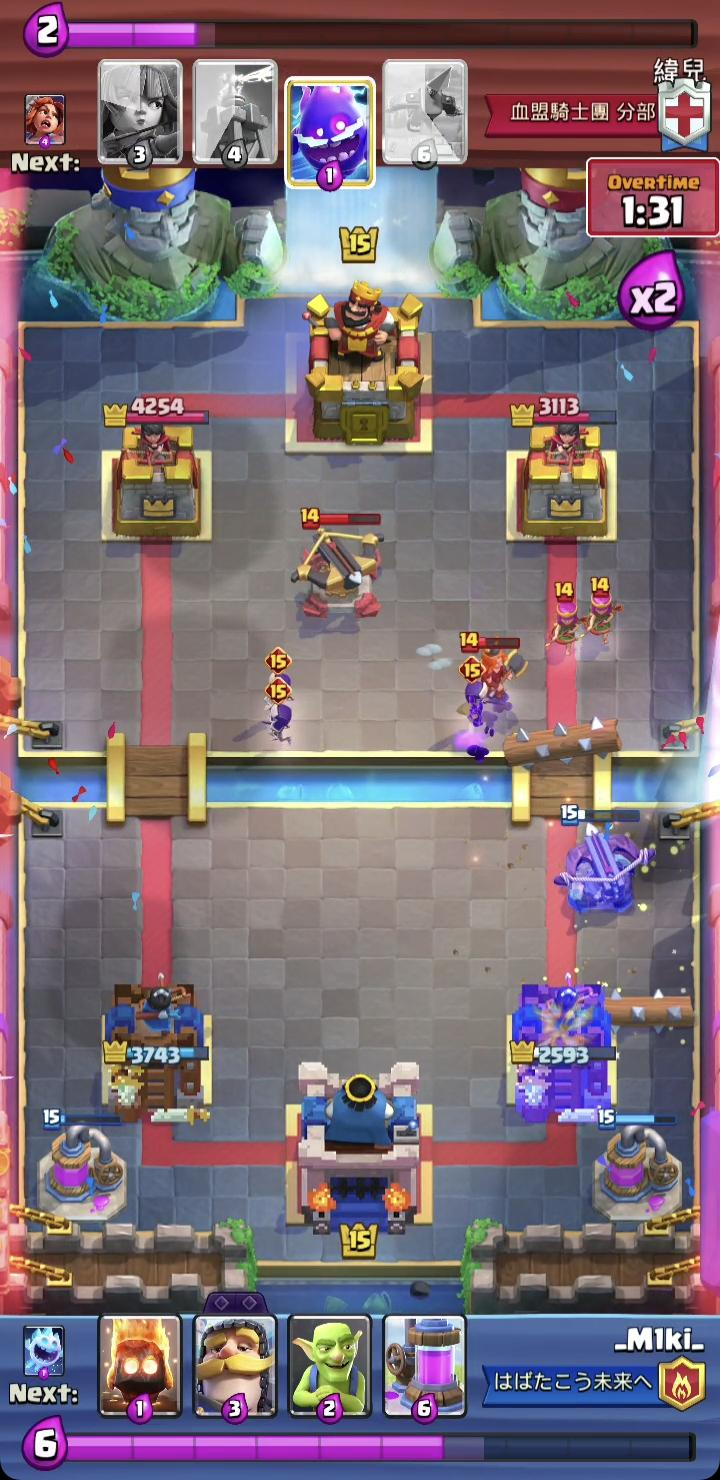ally_elixirpump: (592, 1106, 686, 1226), (35, 1109, 132, 1225)
ally_xbow: (558, 803, 660, 913)
enemy_archer: (577, 577, 629, 646), (544, 580, 588, 653)
enemy_log: (567, 984, 698, 1034)
enemy_skeleton_evo: (260, 675, 298, 748), (260, 646, 294, 710), (453, 652, 486, 717), (457, 656, 488, 725)
enemy_valkyrie: (457, 629, 528, 708)
enemy_xbow: (290, 506, 388, 622)
